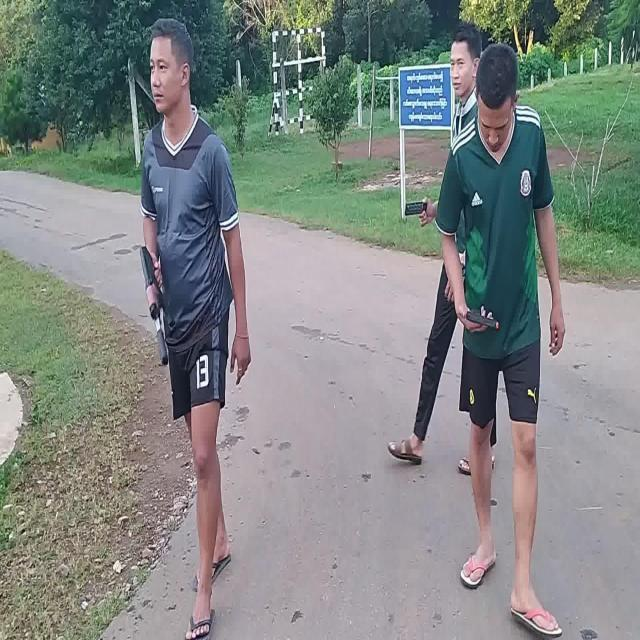gun: (139, 247, 168, 364), (466, 309, 498, 329)
